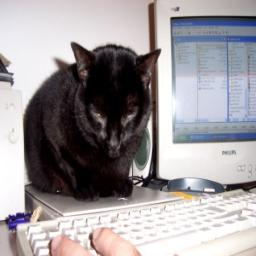catnose: (107, 140, 122, 154)
